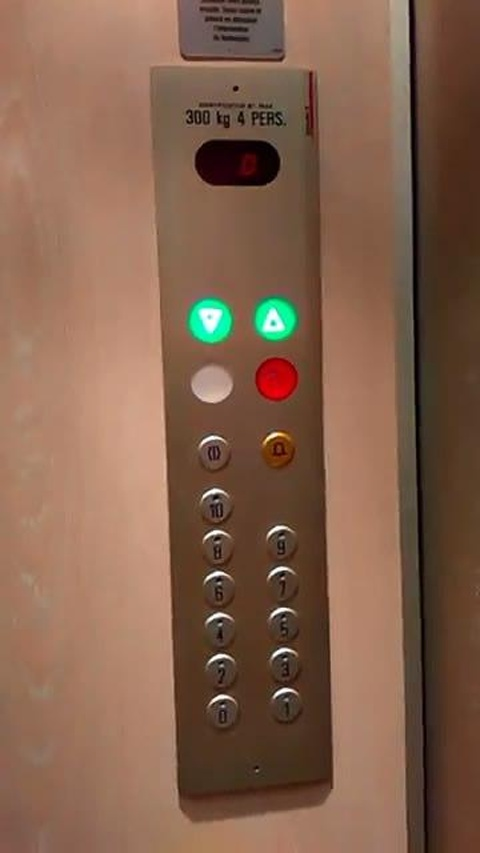0: (202, 693, 243, 733)
1: (263, 685, 306, 724)
10: (194, 484, 236, 523)
2: (201, 651, 239, 693)
3: (265, 646, 305, 686)
4: (200, 614, 241, 651)
5: (263, 606, 305, 647)
6: (198, 571, 237, 610)
7: (265, 566, 301, 604)
8: (197, 529, 237, 567)
9: (263, 523, 300, 562)
alarm: (254, 429, 301, 472)
blur: (253, 357, 298, 403)
down: (187, 298, 233, 346)
empty: (190, 363, 235, 405)
led: (193, 136, 284, 189)
open: (193, 433, 235, 473)
up: (252, 297, 298, 342)
